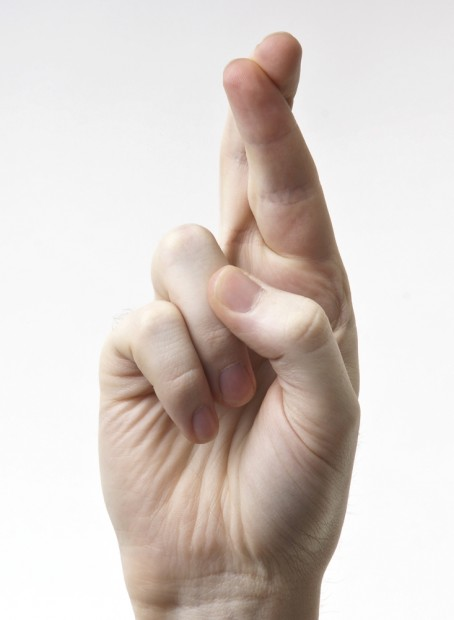hand: (95, 31, 360, 598)
